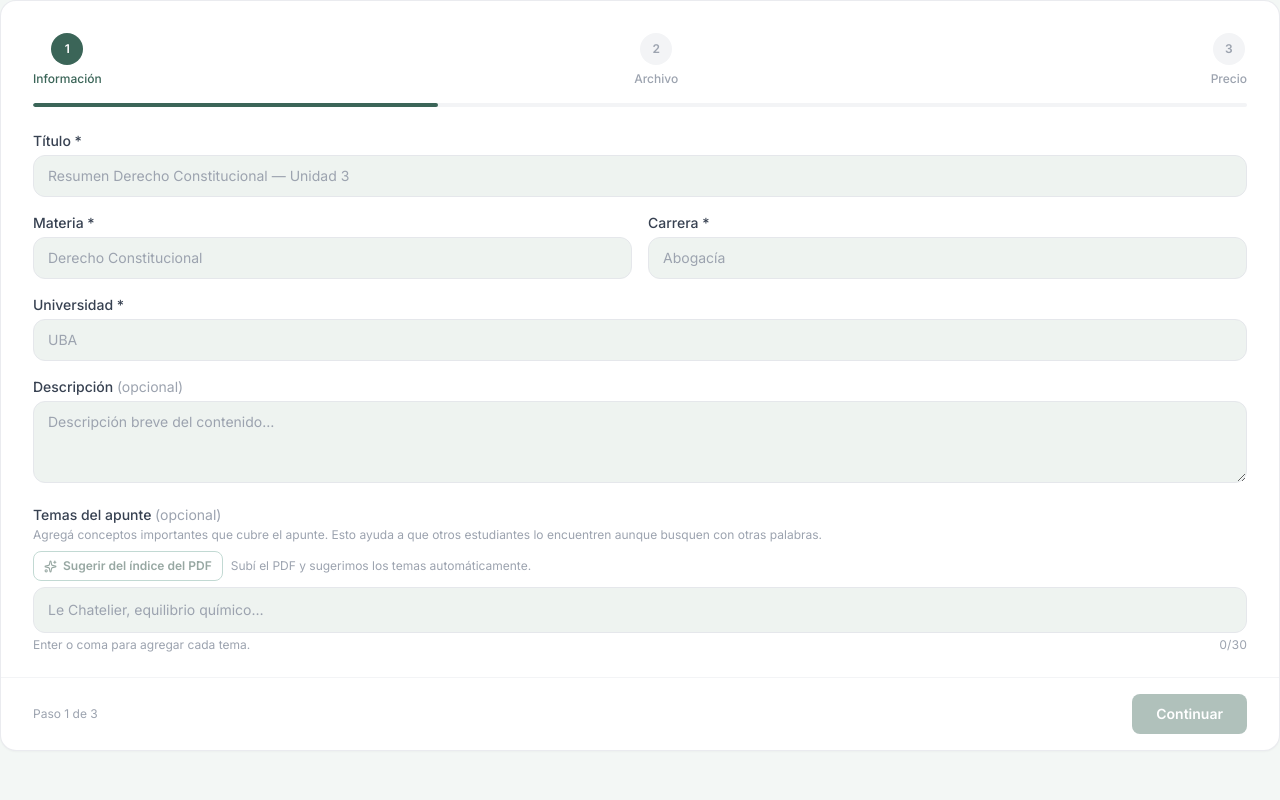
ResumeForm — Temas del apunte (chips) › agrega un tema con Enter y lo muestra como chip
Type "Le Chatelier" into the field labelled "Temas del apunte (opcional)" at (640, 610), box [44,596,1236,624]
Then press Enter
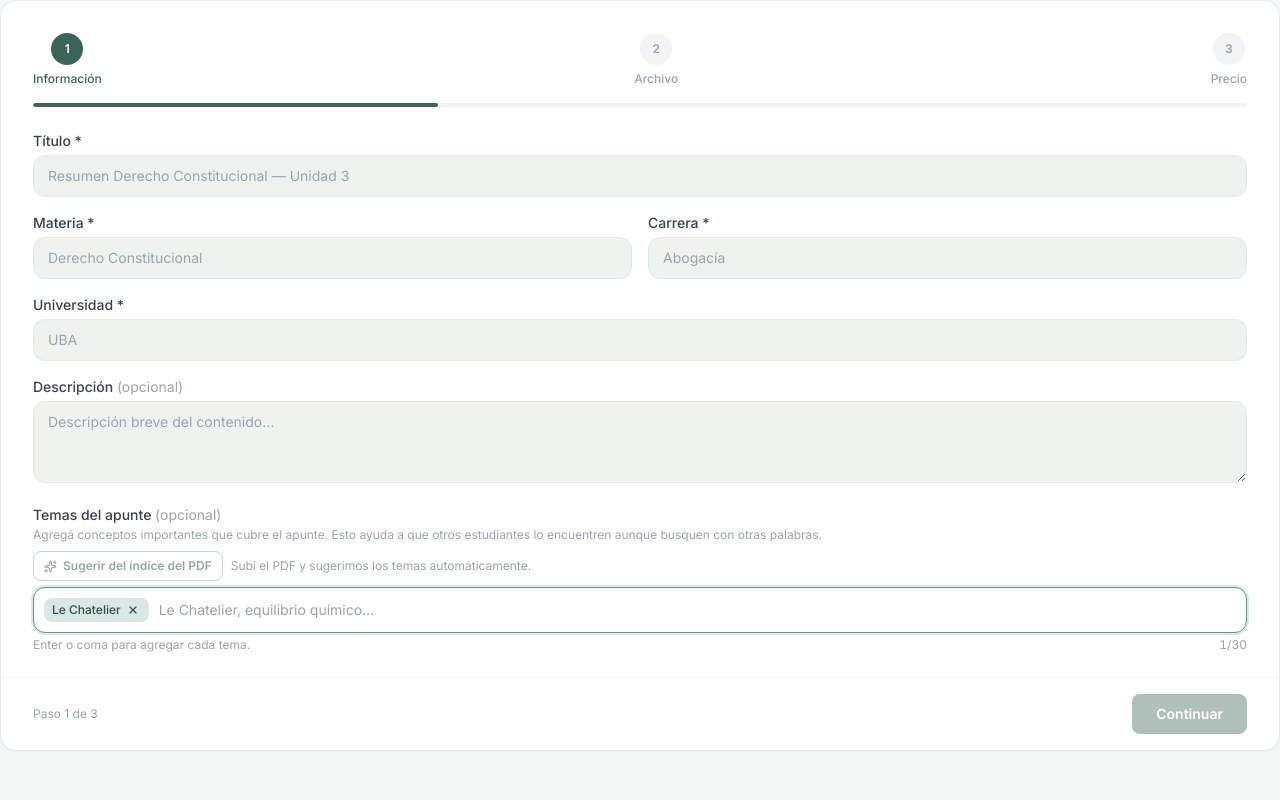
Expected: the field labelled "Temas del apunte (opcional)" is empty, [155,596,1236,624]
Expected: the button named "Quitar tema Le Chatelier" is shown, [125,602,141,618]
